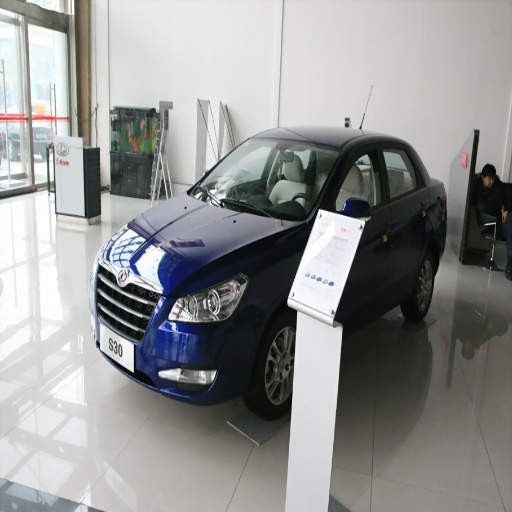front_bumper: (103, 270, 269, 403)
front_glass: (188, 137, 338, 219)
front_left_door: (332, 140, 396, 286)
